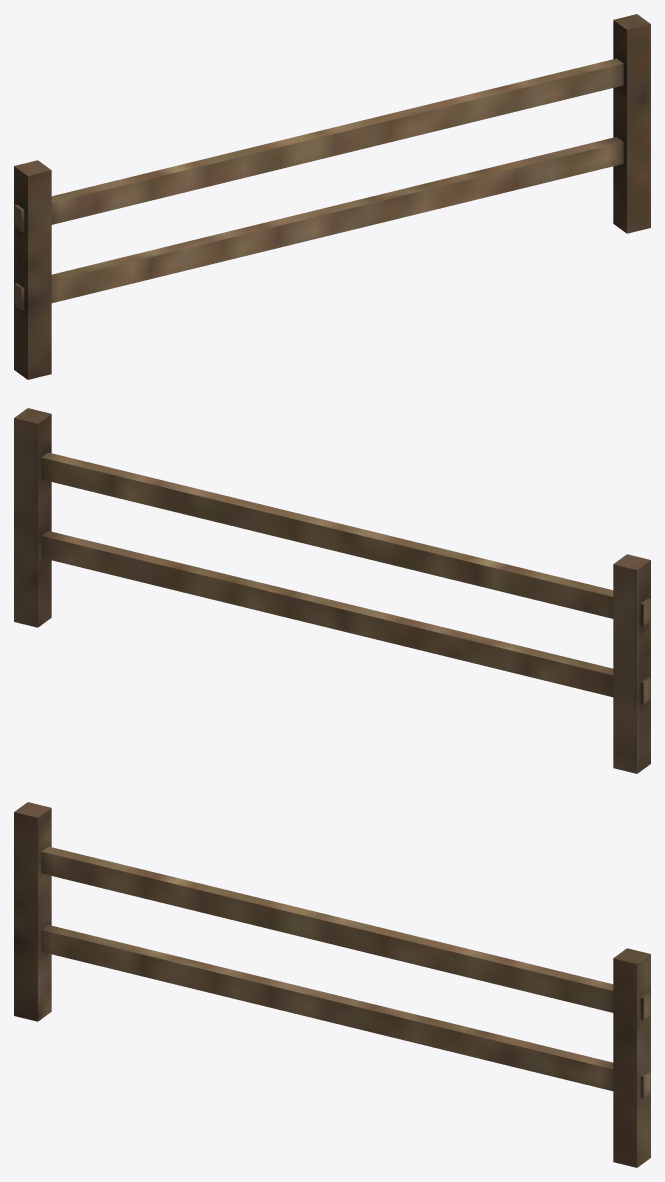
The model's file is SM_Fence.fbx.
The picture shows the model from 3 angles, top to bottom: view 1: azimuth 30°, elevation 25°; view 2: azimuth 150°, elevation 25°; view 3: azimuth 330°, elevation 25°; orthographic projection.
Parts seen in each view (by area): view 1: SM_Fence; view 2: SM_Fence; view 3: SM_Fence.
Boxes of the visible parts, x1,y1,x2,y2 form: SM_Fence: [14, 14, 650, 379]; SM_Fence: [14, 408, 650, 773]; SM_Fence: [14, 802, 650, 1167].
Bounding box in the file's own units: 420 × 130 × 16.
1 material, 1 textured.
